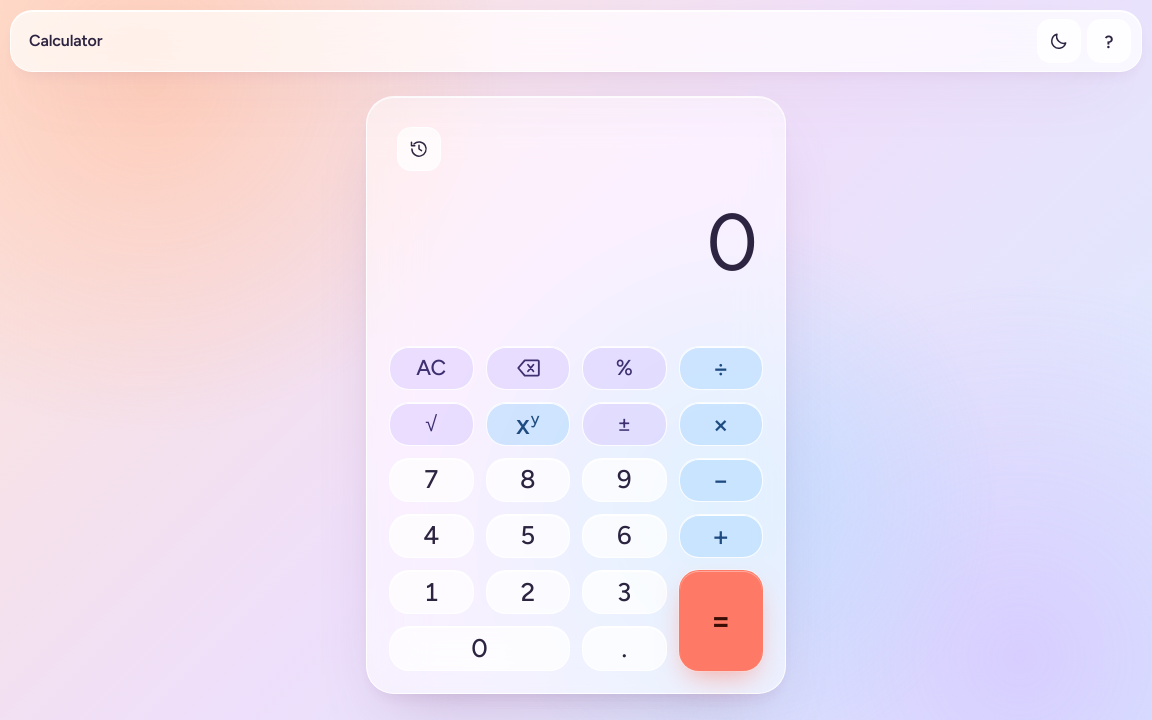
Test case: shortcuts dialog › closes on a click outside the card
Click the button named "Keyboard shortcuts": [1109, 41] box [1087,19,1131,63]
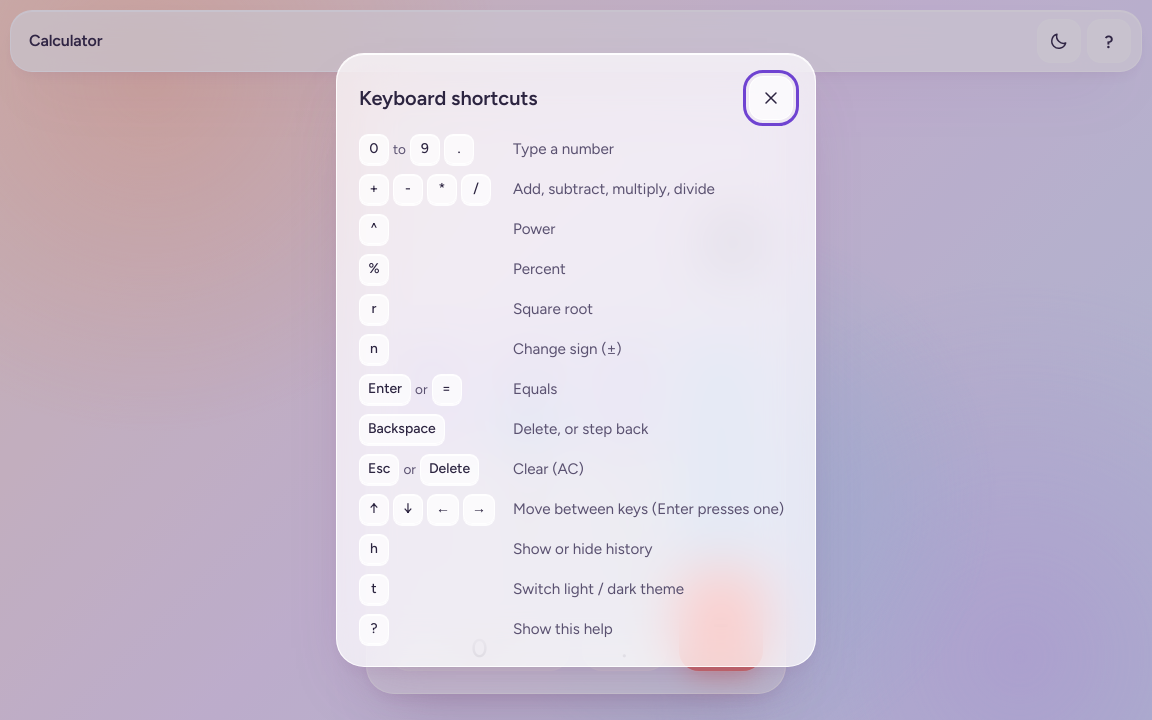
Click the element that starts with "Keyboard shortcuts": [69, 360] box [0,0,1151,719]
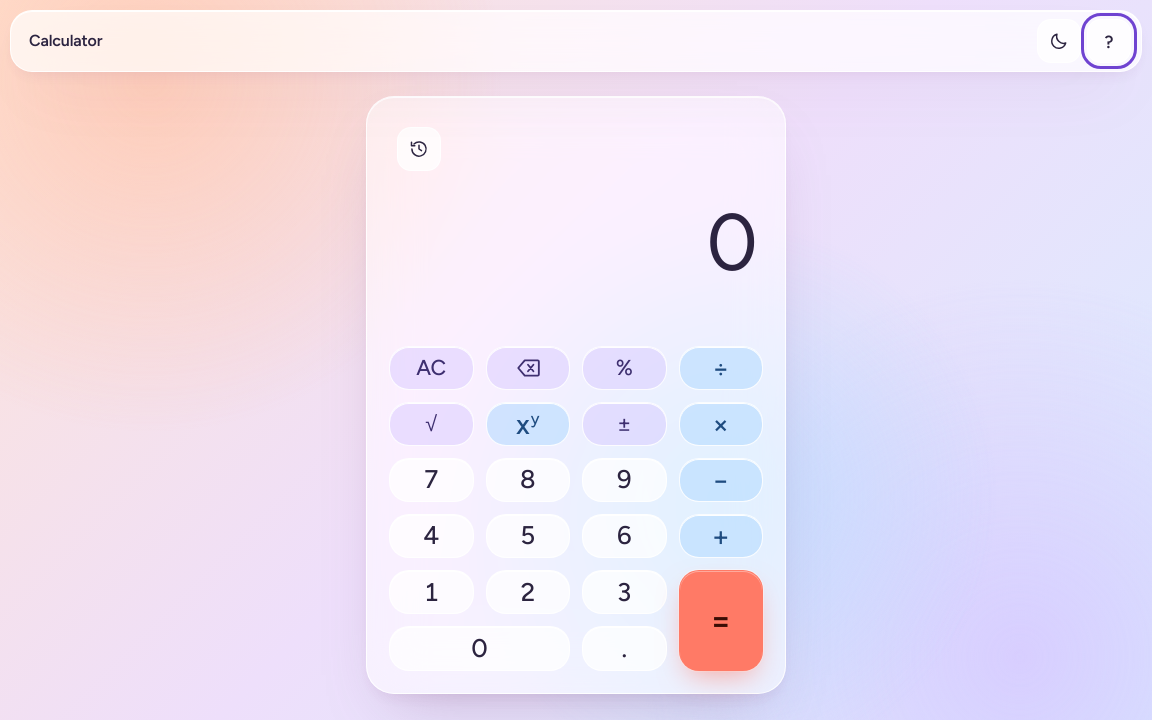
Expected: the dialog is gone
